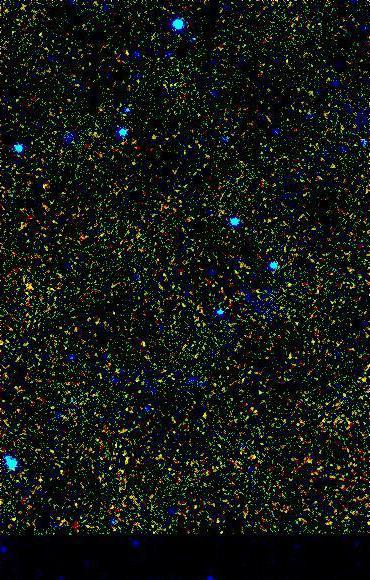star: (15, 270, 45, 300)
